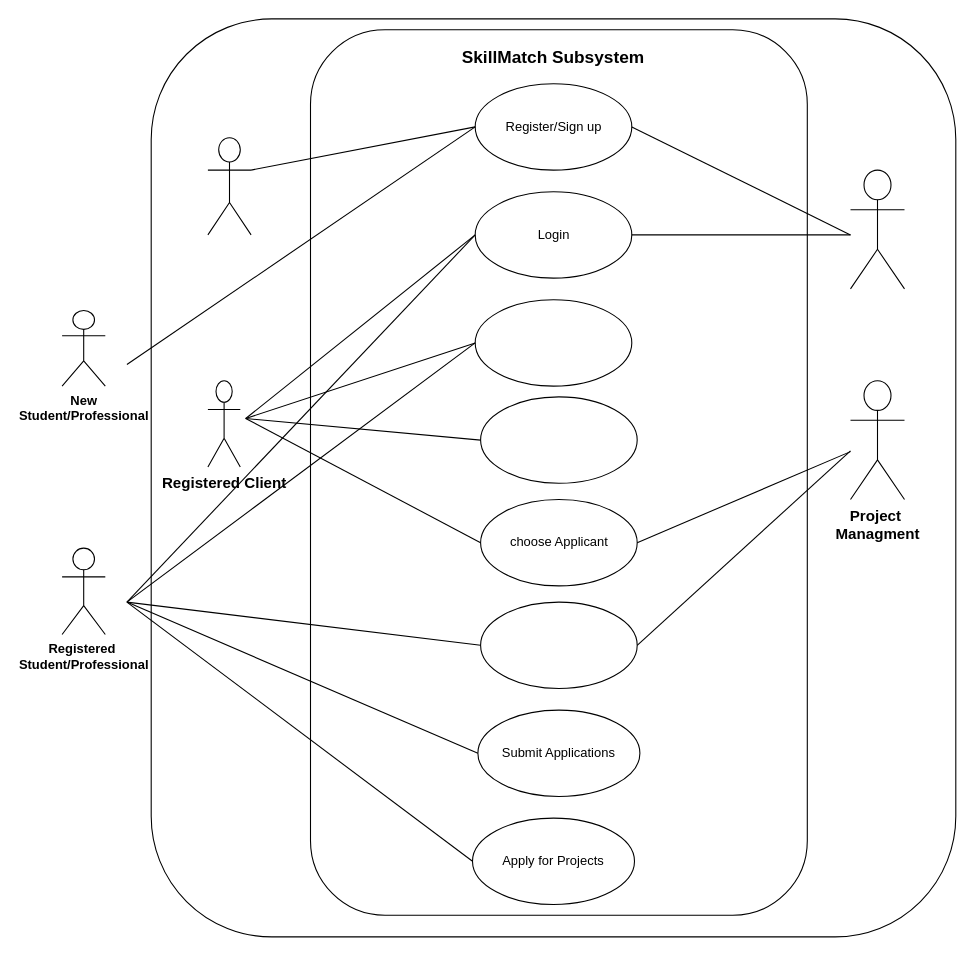
Some shapes in this 974 by 956 pixel diagram are drawn without their labels. The shapes that lost their labels are listed below. From the top down, each one's centre as x and y in pixels, then its label:
At pixel 229 186: "New Client".
At pixel 877 229: "Authentication".
At pixel 553 342: "View Projects".
At pixel 558 439: "Create Project".
At pixel 558 644: "Work on project".
